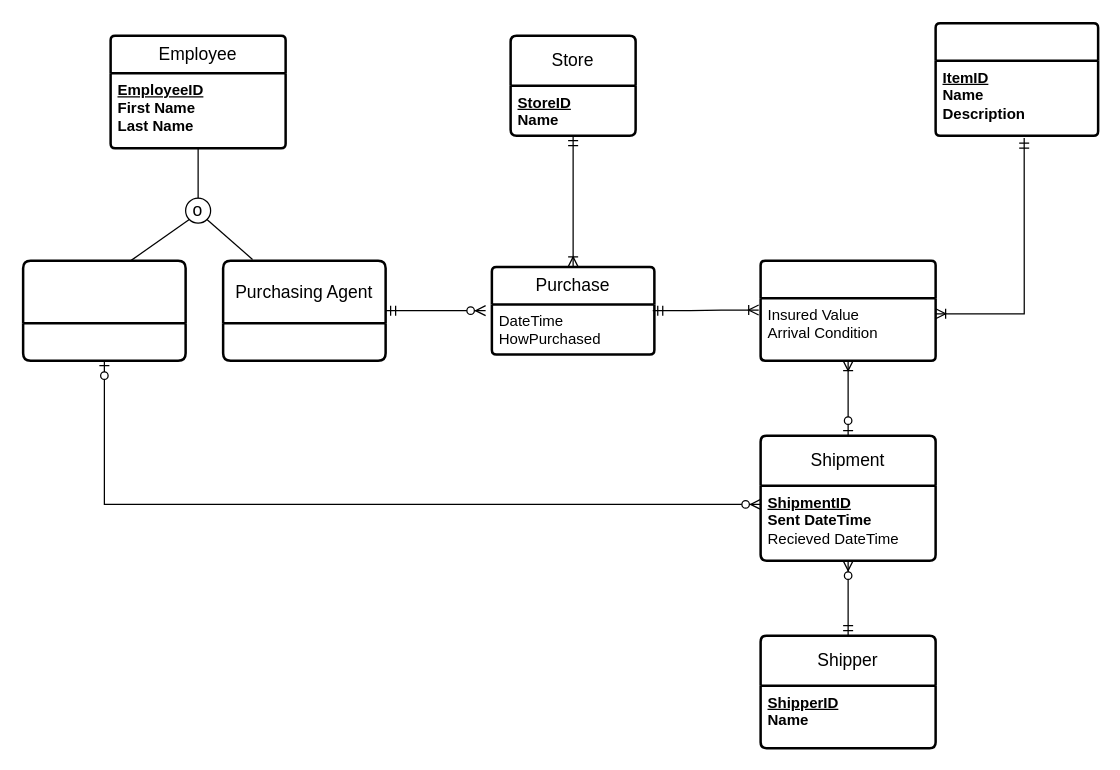
Image size: 1120x770. Some labels were removed from this diagram. Each missing label, with the box of its shape:
Item Description: (934, 21, 1099, 136)
Purchased Item: (759, 259, 936, 361)
Receiving Clerk: (21, 259, 186, 361)
